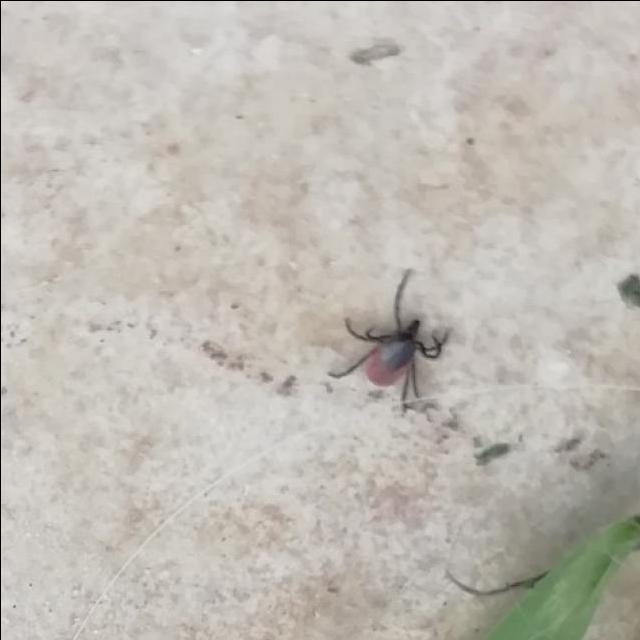Ixodes Ricinus-F: (326, 270, 451, 402)
